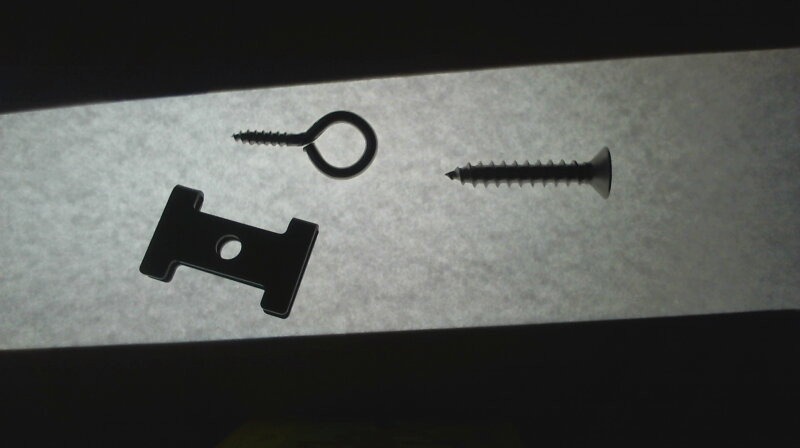O001: (228, 107, 383, 182)
O002: (133, 181, 322, 321)
S001: (442, 144, 616, 205)
